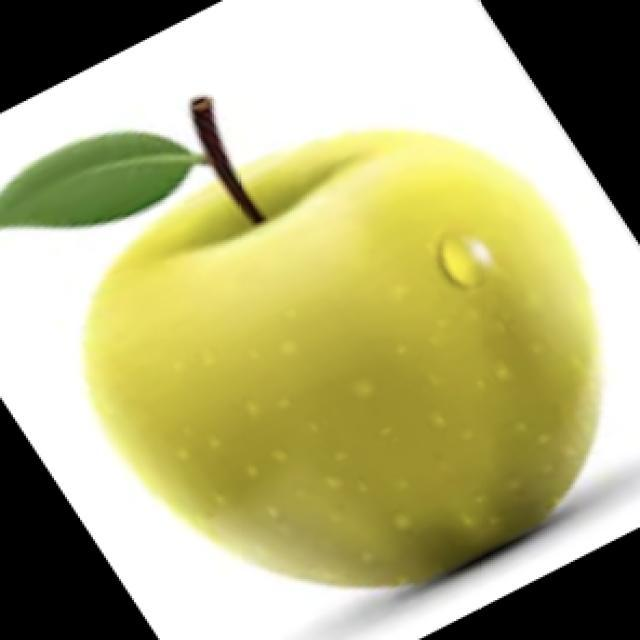Fresh Apple: (113, 122, 590, 588)
